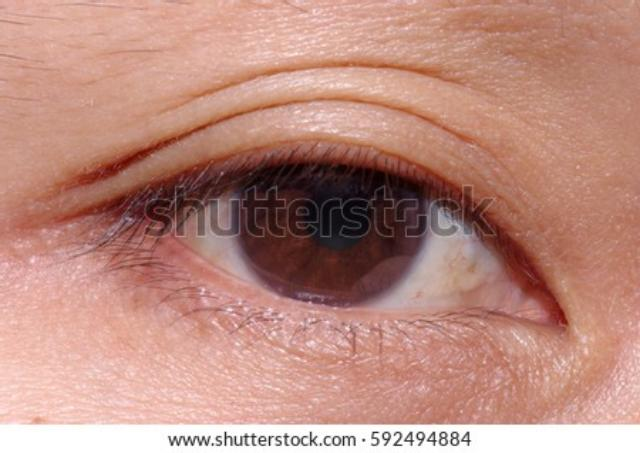eye: (228, 143, 432, 307)
